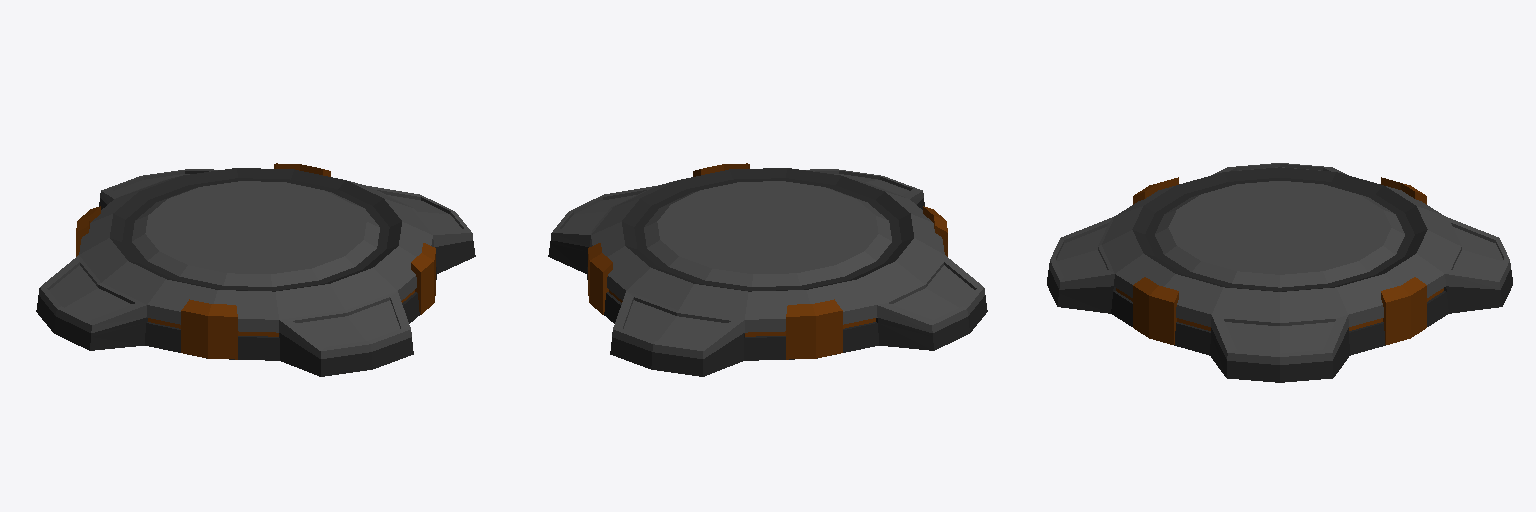
File: Props_Base.obj
The picture shows the model from 3 angles: view 1: azimuth 30°, elevation 25°; view 2: azimuth 150°, elevation 25°; view 3: azimuth 270°, elevation 25°; orthographic projection.
Parts seen in each view (by area): view 1: Props_Base_Cylinder; view 2: Props_Base_Cylinder; view 3: Props_Base_Cylinder.
Part boxes in pixels (x1,y1,x2,y2): Props_Base_Cylinder: (36, 163, 475, 376); Props_Base_Cylinder: (548, 163, 987, 376); Props_Base_Cylinder: (1047, 163, 1512, 382).
Bounding box in the file's own units: 2.4 × 0.3203 × 2.4.